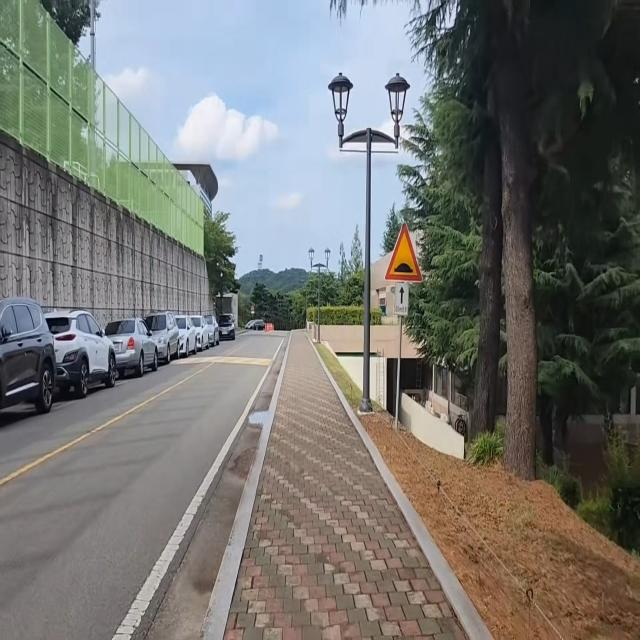obstacle: (325, 68, 412, 422), (0, 299, 234, 425)
road: (2, 329, 288, 640)
sidewalk: (204, 330, 492, 640)
